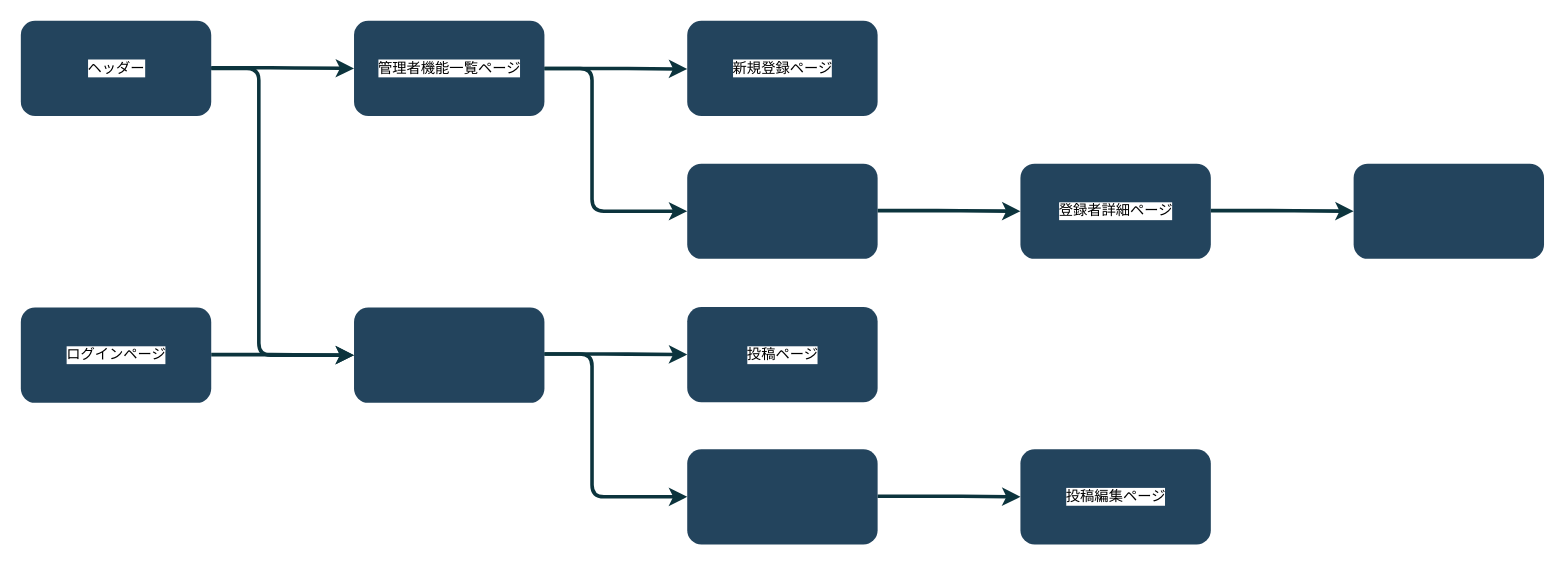
Some shapes in this 1564 by 564 pixel diagram are drawn without their labels. The shapes that lost their labels are listed below. From the top down, each one's centre as x and y in pixels, then its label:
point (782, 210): 登録者一覧ページ
point (1448, 210): 登録者編集ページ
point (448, 354): 投稿機能一覧ページ
point (782, 496): 指示値一覧ページ
